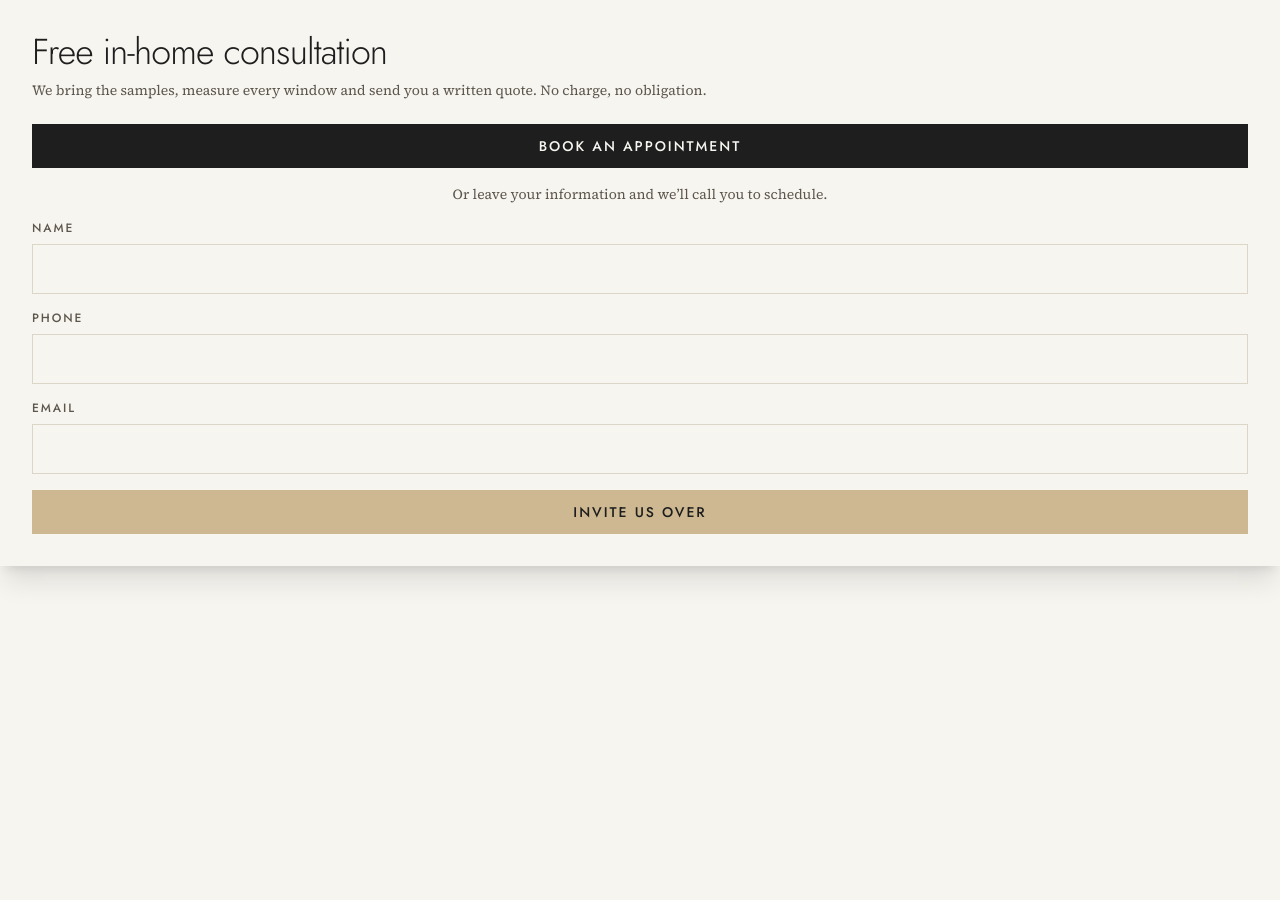
Test: Pick a time on the home form › says when online booking is unavailable
The image size is (1280, 900).
Click the button "Book an Appointment": (640, 146) [32,124,1248,168]
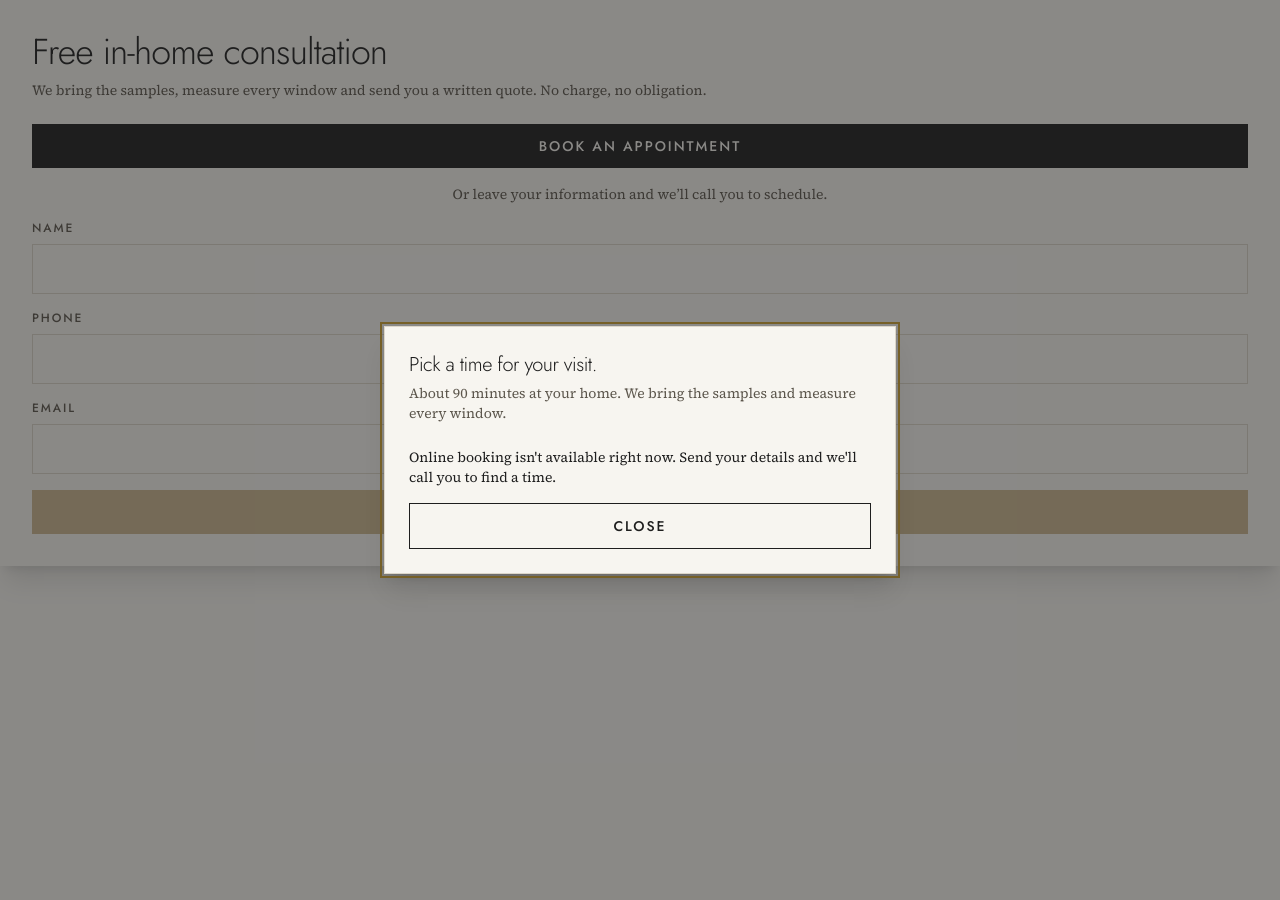
expect the message shows "Online booking isn't available right now.": met, box [409,447,857,487]
